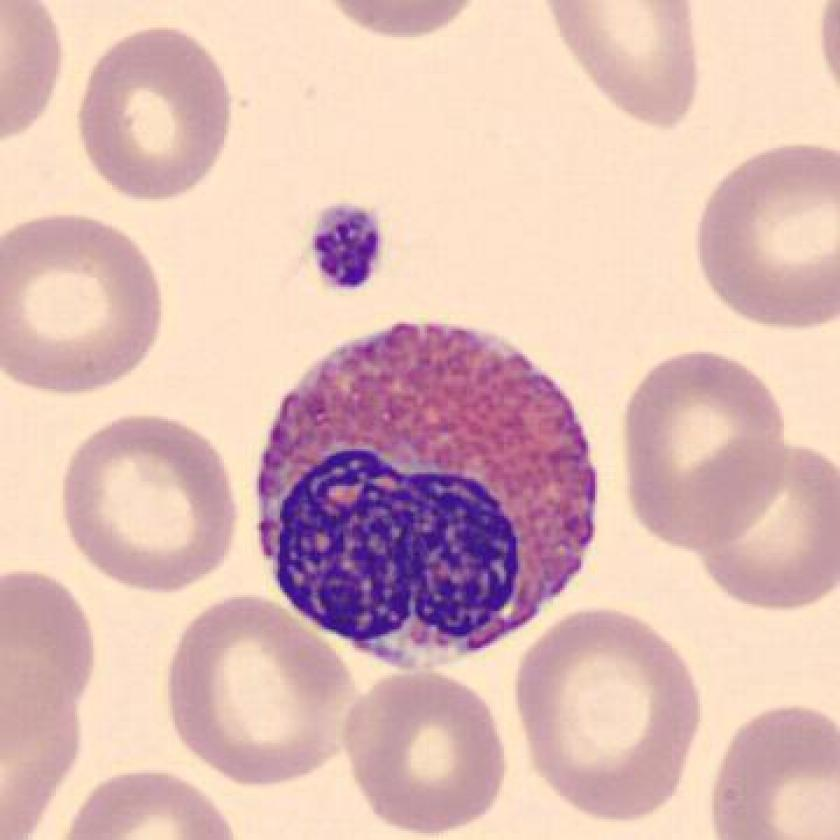eosinophil: (237, 309, 615, 686)
